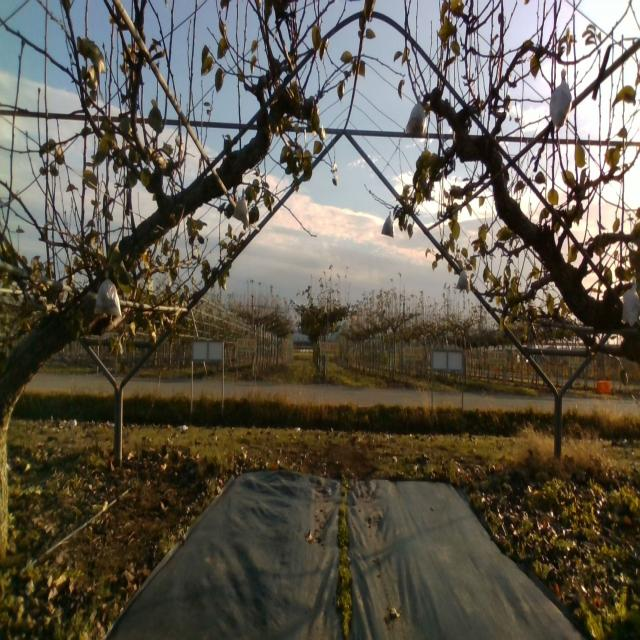pearbags: (92, 269, 122, 318), (550, 69, 572, 128), (622, 282, 640, 325), (406, 96, 425, 134), (233, 191, 248, 224), (381, 211, 395, 236), (456, 267, 469, 291)
